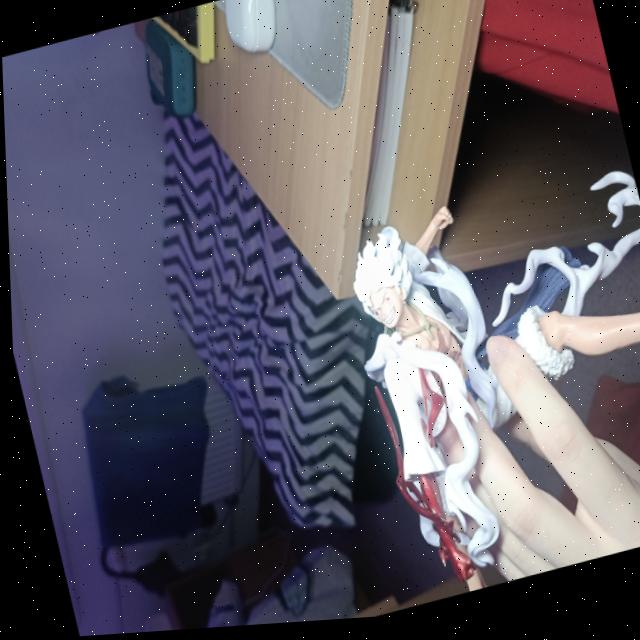luffy: (329, 161, 640, 614)
